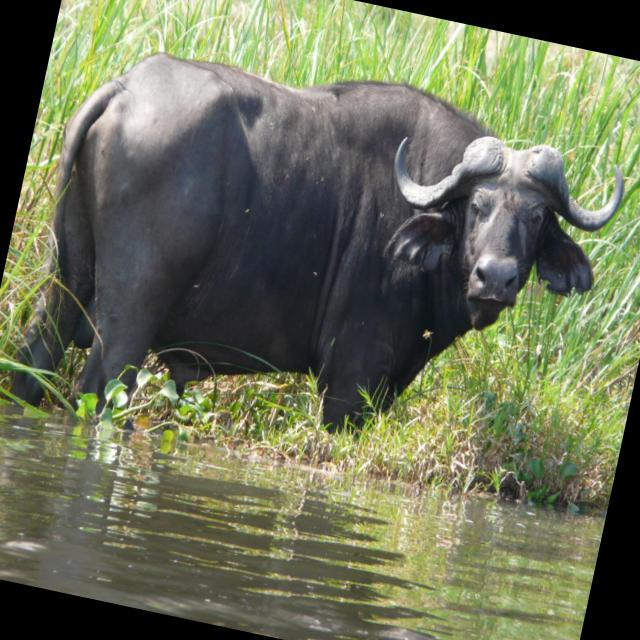bull: (38, 2, 640, 555)
